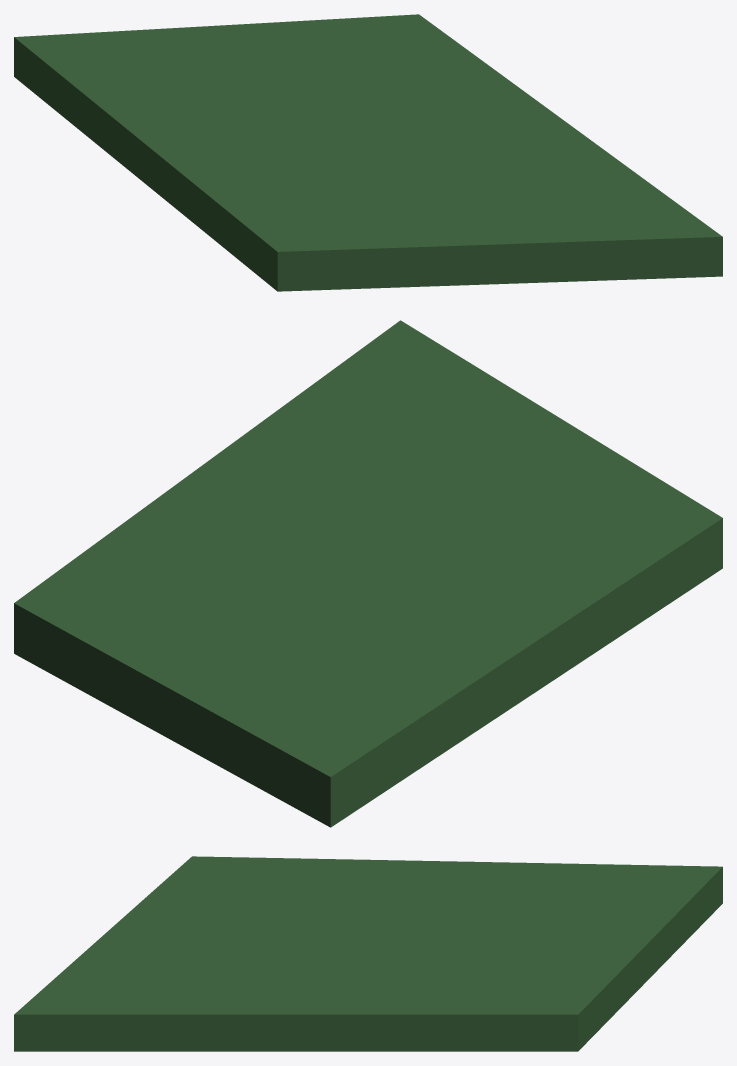
File: x_proval_00_211_1_rmstrd.fbx
The picture shows the model from 3 angles, top to bottom: view 1: azimuth 30°, elevation 25°; view 2: azimuth 150°, elevation 25°; view 3: azimuth 270°, elevation 25°; orthographic projection. The views are drawn at different scales.
Visible parts, largest first — view 1: x_proval_00_211_1_rmstrd1; view 2: x_proval_00_211_1_rmstrd1; view 3: x_proval_00_211_1_rmstrd1.
Boxes of the visible parts, x1=… form: x_proval_00_211_1_rmstrd1: x1=14, y1=14, x2=722, y2=291; x_proval_00_211_1_rmstrd1: x1=14, y1=320, x2=722, y2=827; x_proval_00_211_1_rmstrd1: x1=14, y1=856, x2=722, y2=1051.
Bounding box in the file's own units: 1.84 × 0.2 × 3.49.
